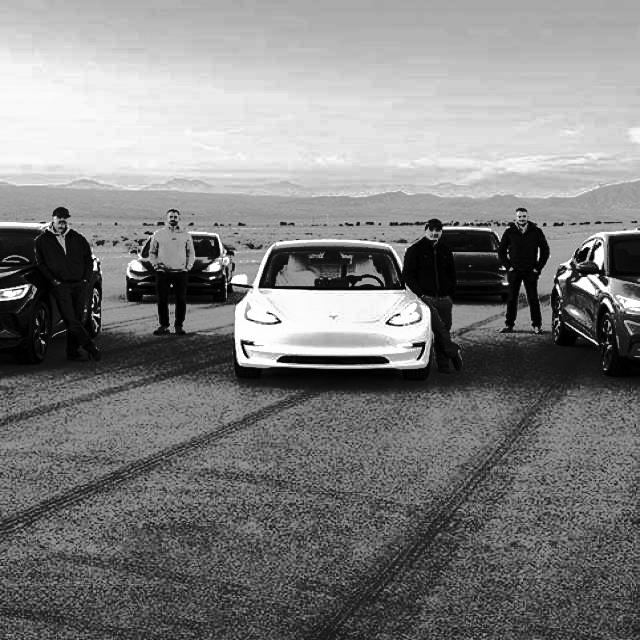Car: (227, 238, 434, 386)
